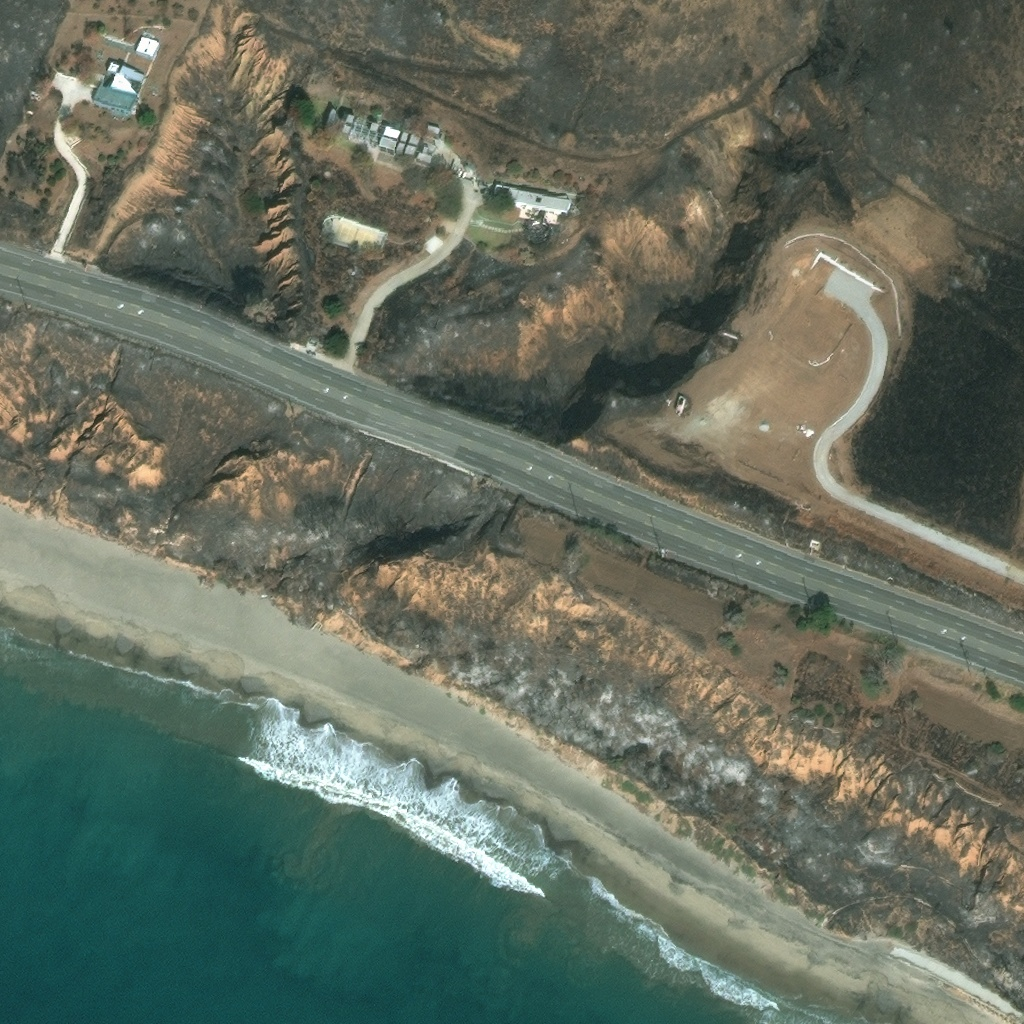0 no-damage: (90, 60, 147, 118), (491, 182, 573, 213), (323, 107, 384, 147), (134, 37, 159, 60), (381, 126, 401, 141), (378, 137, 396, 152), (426, 124, 441, 135), (404, 145, 416, 157), (394, 143, 405, 154), (408, 135, 420, 145), (400, 131, 409, 143)
1 minor-damage: (673, 394, 687, 414)
3 destroyed: (526, 218, 549, 239), (30, 91, 42, 102), (25, 110, 34, 116)
